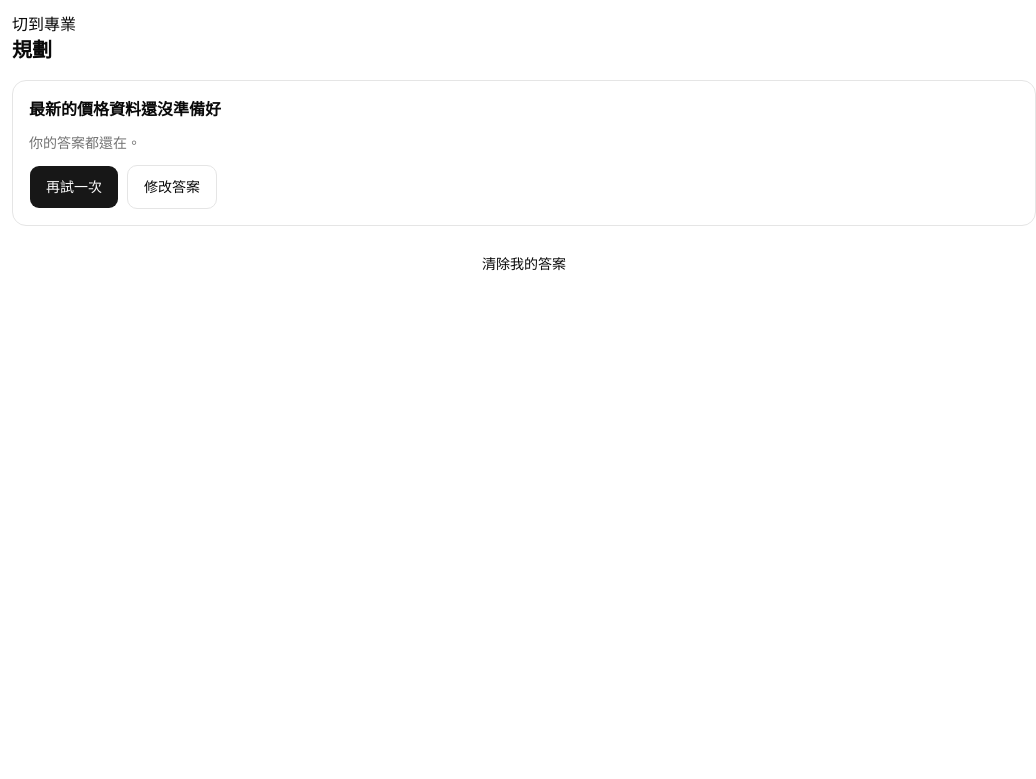
it: PlannerScreen with the live result › shows a retry for a 503 and the plan after retrying
expect the message reads "最新的價格資料還沒準備好": met, box [29, 98, 221, 120]
Click the button "再試一次": x=74, y=187 [29, 165, 119, 209]
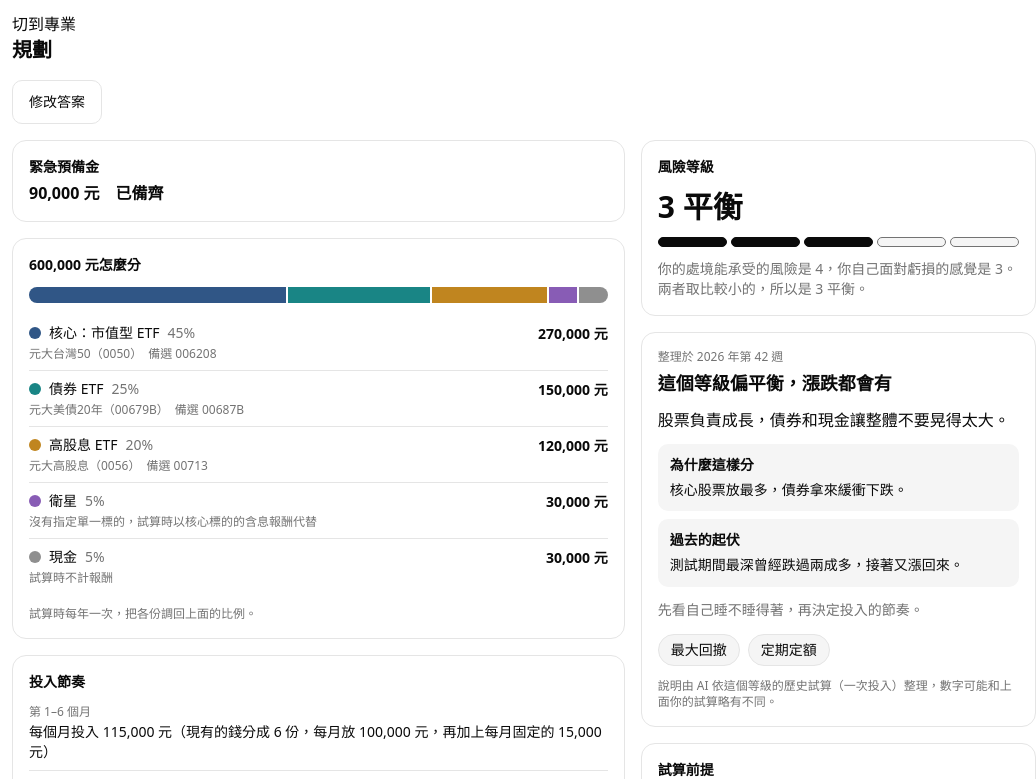
expect the text "3 平衡" is shown: met, box [658, 186, 743, 227]
expect the message "最新的價格資料還沒準備好" is gone: met
